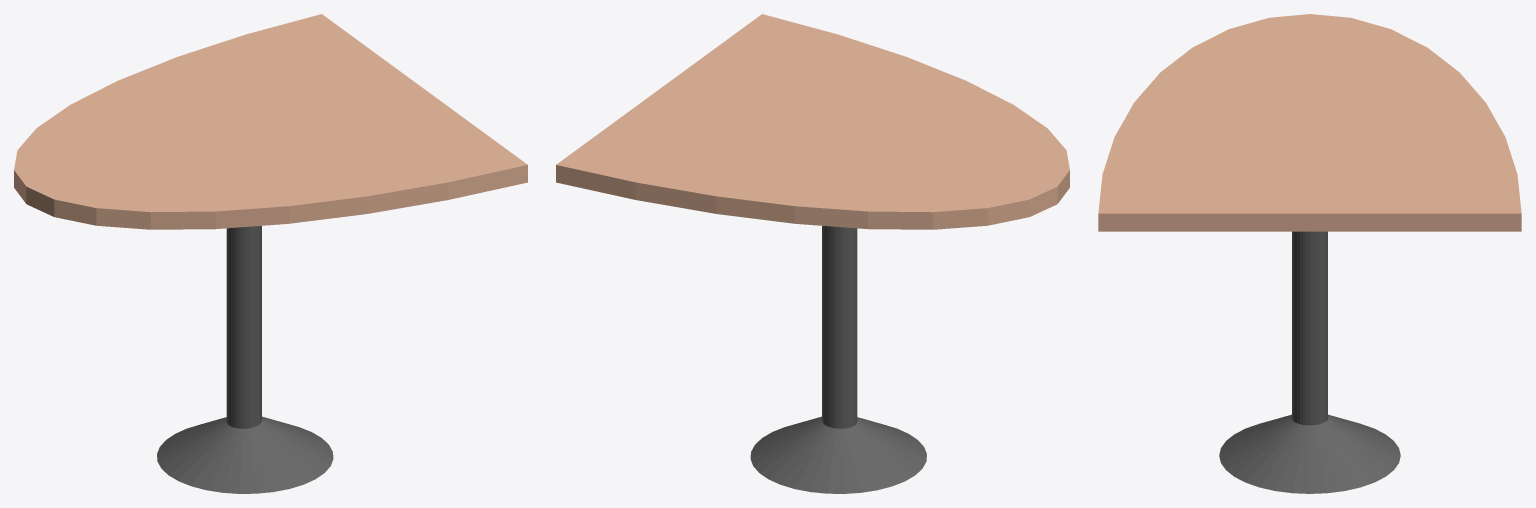
File: Halftable.fbx
3 renders of one model, left to right at view 1: azimuth 30°, elevation 25°; view 2: azimuth 150°, elevation 25°; view 3: azimuth 270°, elevation 25°, orthographic. The views are drawn at different scales.
Visible parts, largest first — view 1: Cylinder, Cone, Cylinder.001; view 2: Cylinder, Cone, Cylinder.001; view 3: Cylinder, Cone, Cylinder.001.
Part boxes in pixels (bbox=[...]): Cylinder: bbox=[14, 14, 527, 229]; Cone: bbox=[157, 416, 333, 493]; Cylinder.001: bbox=[226, 226, 261, 428]; Cylinder: bbox=[556, 14, 1069, 229]; Cone: bbox=[750, 416, 926, 493]; Cylinder.001: bbox=[822, 226, 857, 428]; Cylinder: bbox=[1098, 14, 1521, 231]; Cone: bbox=[1219, 414, 1400, 493]; Cylinder.001: bbox=[1292, 231, 1327, 425].
Bounding box in the file's own units: 520 × 403 × 466.
